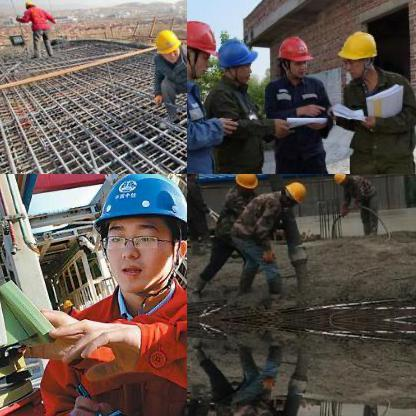Helmet: (86, 174, 186, 295), (334, 26, 380, 76), (187, 16, 219, 81), (213, 34, 255, 80), (274, 31, 312, 79), (152, 25, 180, 61), (281, 178, 307, 204), (232, 174, 258, 192), (330, 174, 348, 186), (22, 0, 36, 9)
